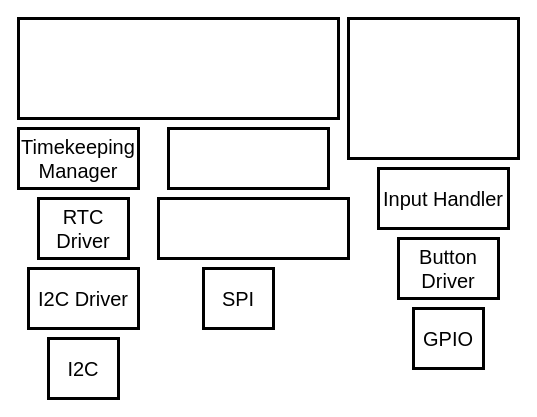
This 537x417 diagram has some shape labels left out. Here are the shapes that lost their labels. From the top down, the centre of each, then its label:
[178,68]: UI Rendering
[433,88]: UI State Machine
[248,158]: Display Driver
[253,228]: SPI Driver
